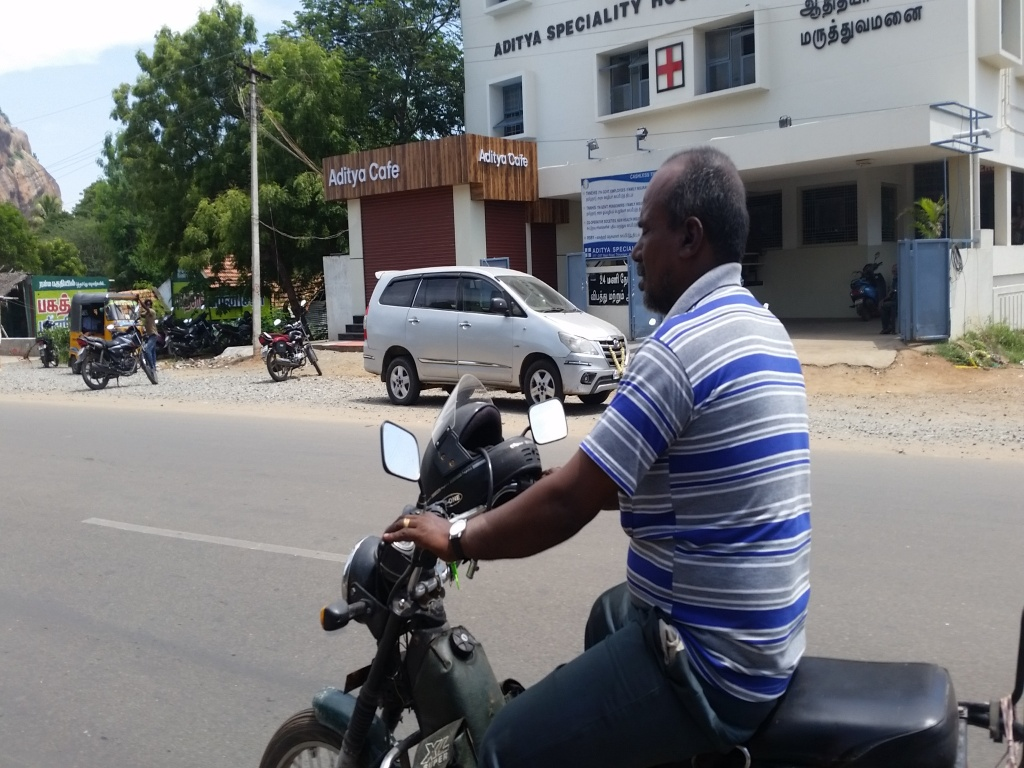biker: (241, 112, 1024, 768)
nohelmet: (623, 133, 762, 328)
